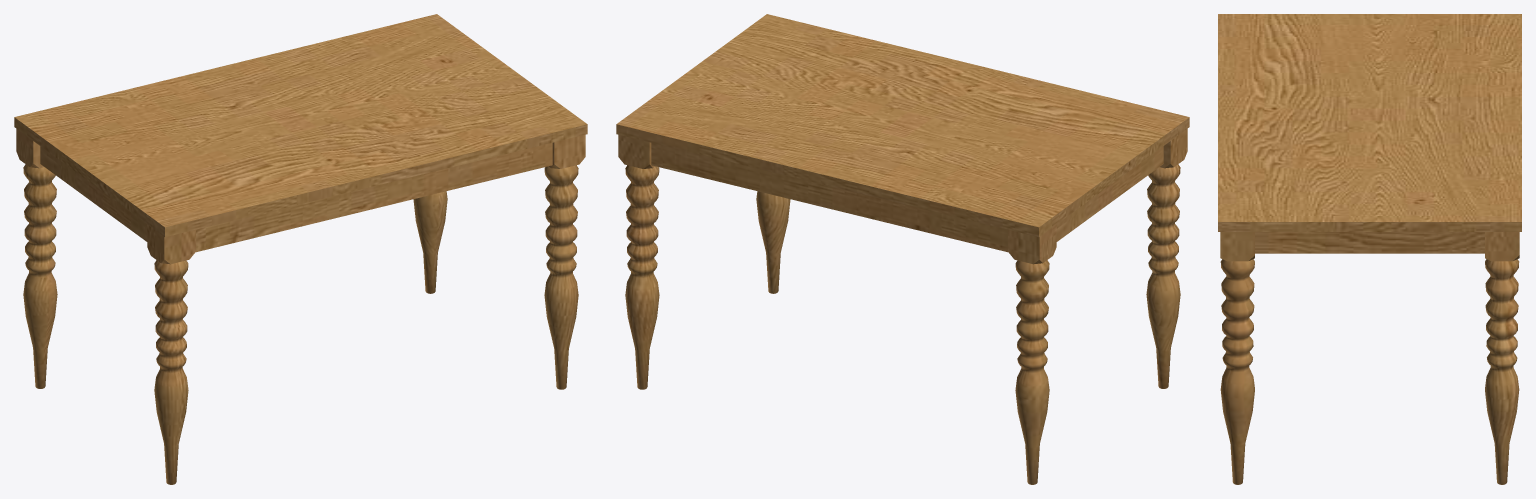
File: Table20.glb
The picture shows the model from 3 angles, left to right: view 1: azimuth 30°, elevation 25°; view 2: azimuth 150°, elevation 25°; view 3: azimuth 270°, elevation 25°; orthographic projection.
Visible parts, largest first — view 1: Table20_model; view 2: Table20_model; view 3: Table20_model.
Boxes of the visible parts, x1,y1,x2,y2 form: Table20_model: (14, 14, 587, 484); Table20_model: (616, 14, 1189, 484); Table20_model: (1218, 14, 1521, 484).
Size of the model in its own units: 2.64 by 1.59 by 1.63.
Materials: 1 (1 with a texture image).
